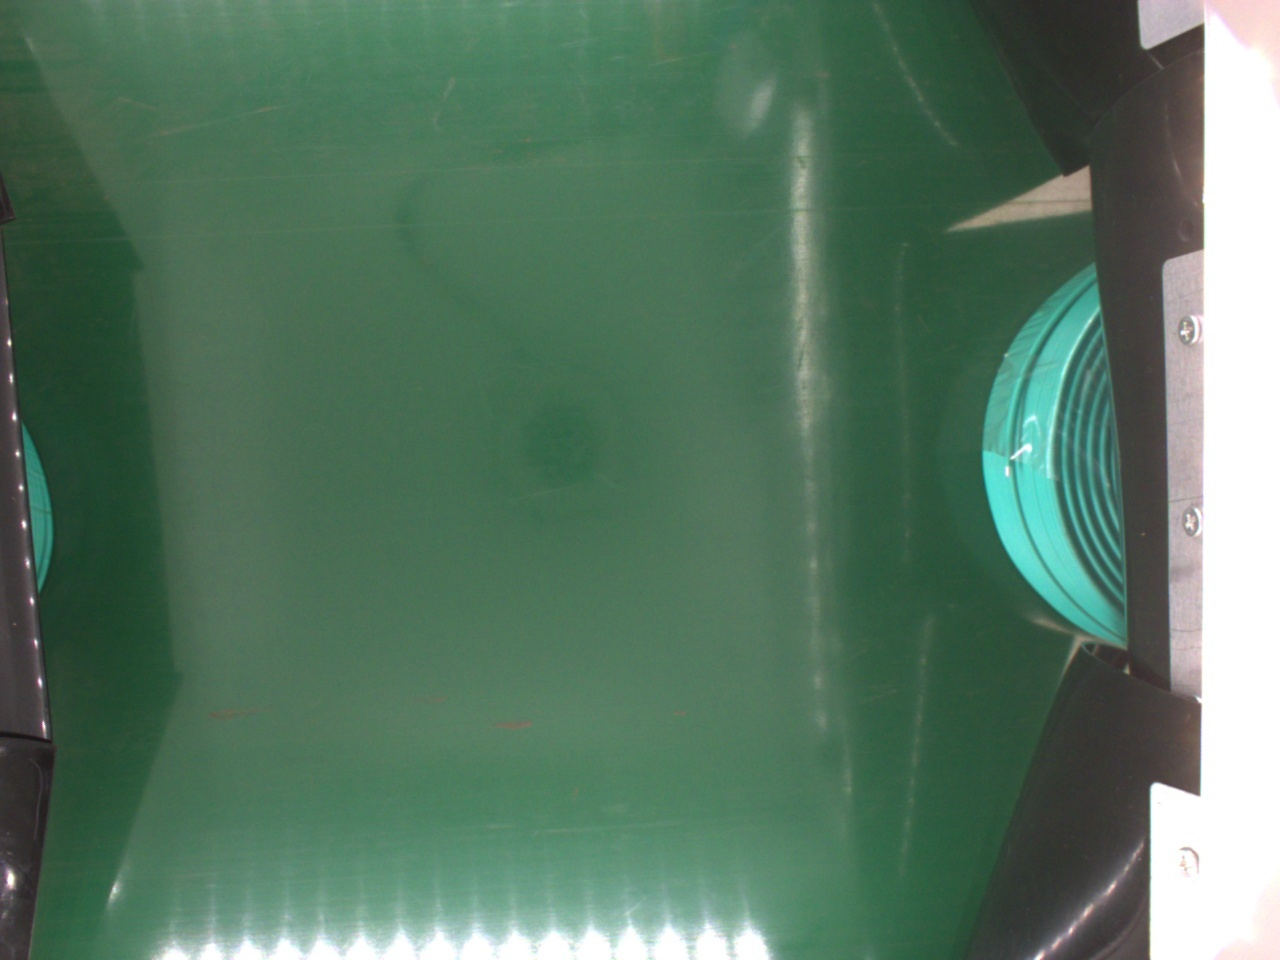green: (988, 264, 1133, 653)
